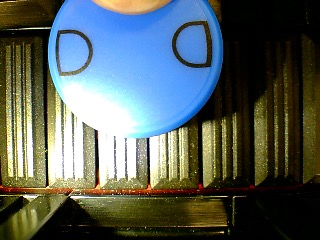MIPO2: (47, 1, 224, 139)
